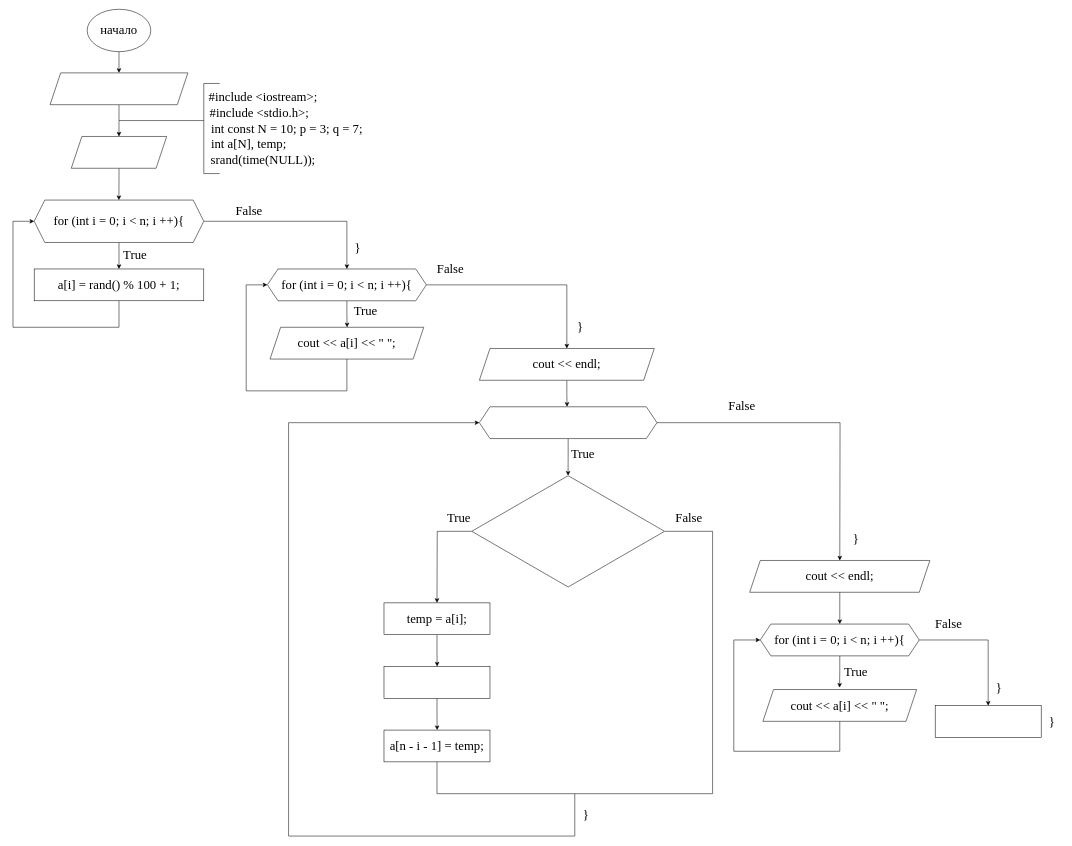
Some shapes in this 1072 by 846 pixel diagram are drawn without their labels. Here are the shapes that lost their labels. From the top down, the centre of each, then its label:
At point 119,88: "using namespace std;".
At point 119,152: "int main(){".
At point 568,422: "for (int i = 0; i < (n / 2); i ++){".
At point 568,531: "if (i + 1 >= q) && (n - i <= p){".
At point 436,682: "a[i] = a[n - i - 1];".
At point 988,721: "return 0;".
